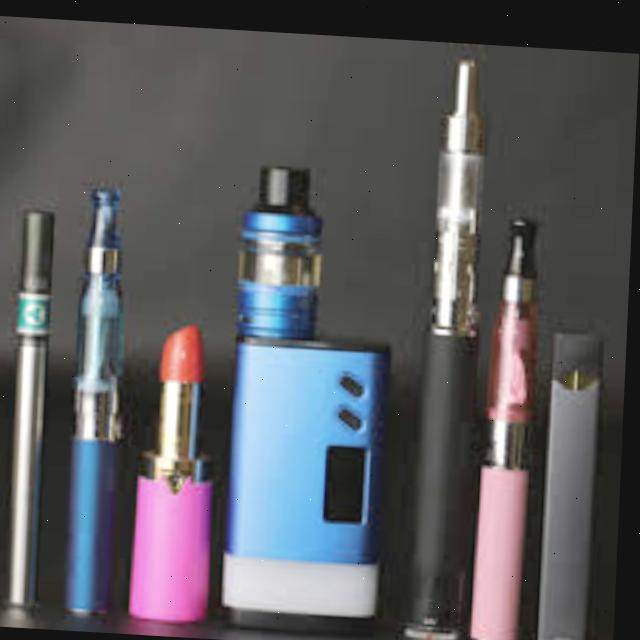vape: (226, 153, 404, 634), (405, 36, 494, 640), (471, 197, 551, 640), (64, 181, 134, 611), (539, 308, 613, 640), (10, 210, 58, 610)
